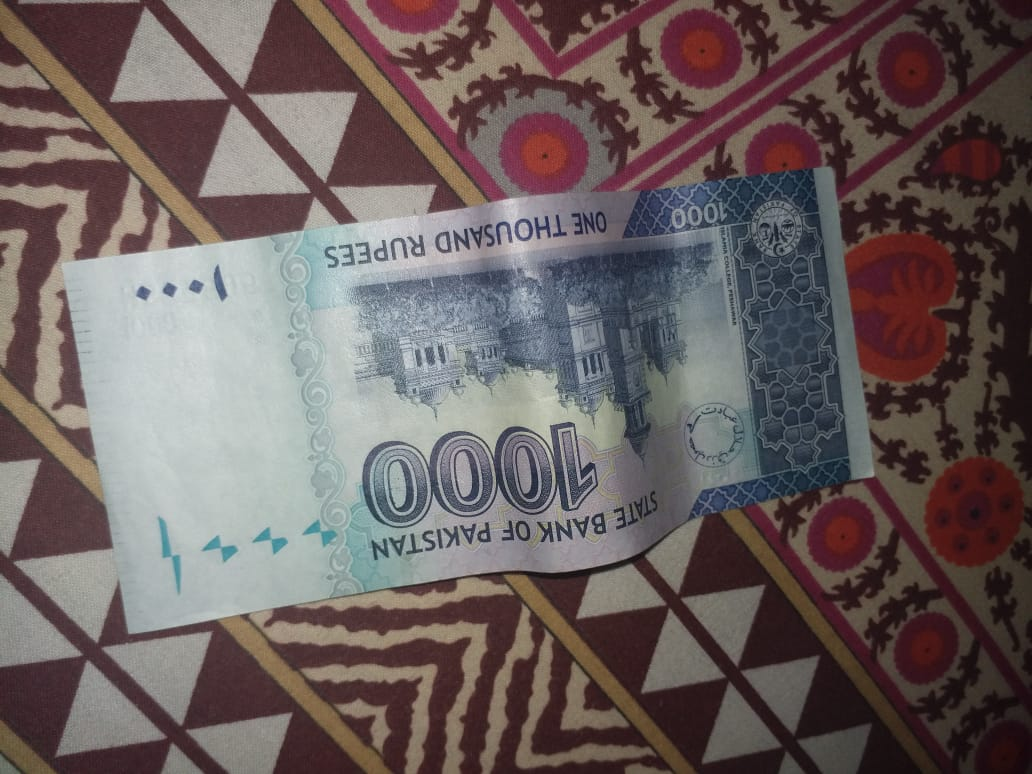1000 rupee: (38, 145, 888, 665)
